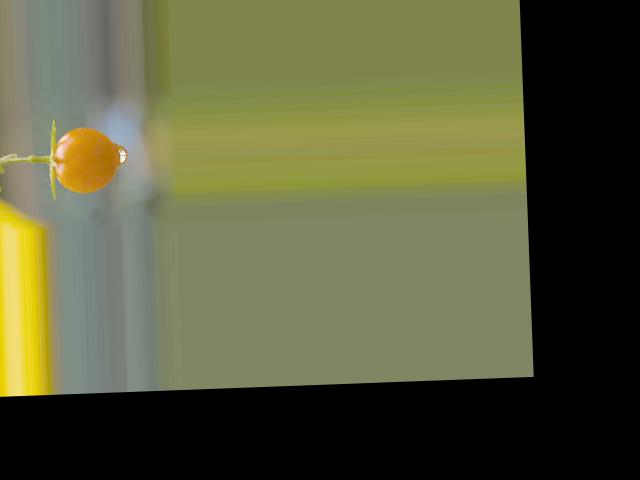tomato: (51, 125, 118, 193)
